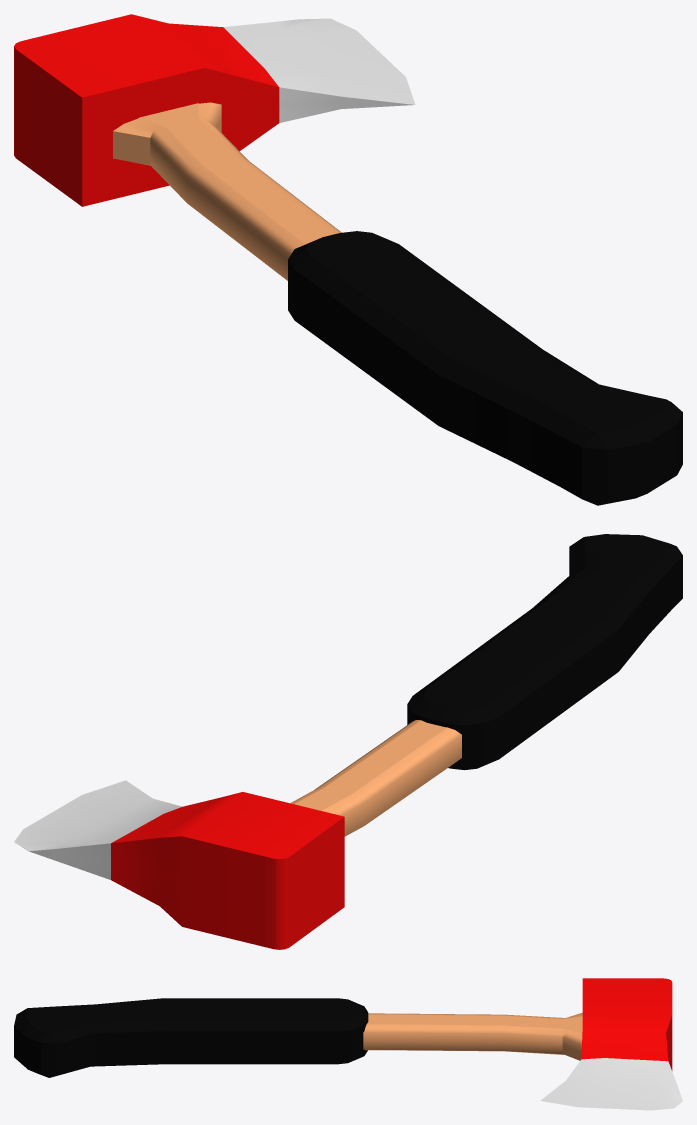
Rendered from Axe_10.fbx.
3 renders of one model, top to bottom at view 1: azimuth 30°, elevation 25°; view 2: azimuth 150°, elevation 25°; view 3: azimuth 270°, elevation 25°, orthographic. The views are drawn at different scales.
Visible parts, largest first — view 1: Axe_10; view 2: Axe_10; view 3: Axe_10.
Part boxes in pixels (bbox=[...]): Axe_10: bbox=[14, 14, 682, 505]; Axe_10: bbox=[14, 534, 682, 949]; Axe_10: bbox=[14, 978, 682, 1110].
Bounding box in the file's own units: 3.17 × 1 × 9.08.
